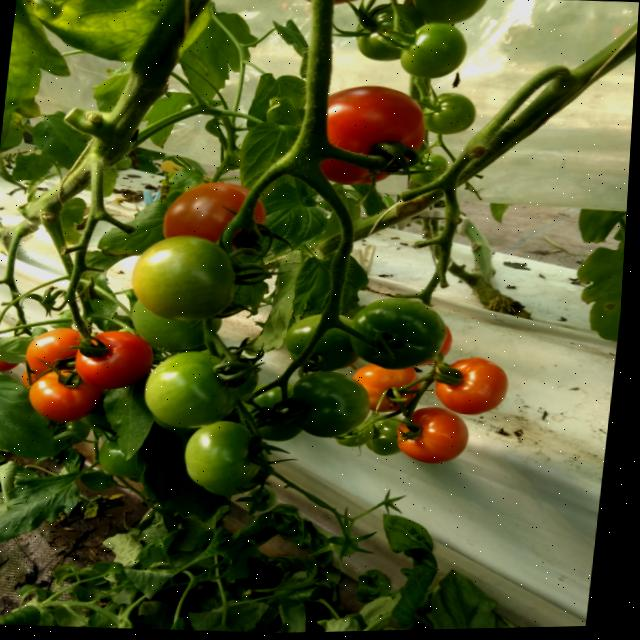ripe0: (127, 235, 238, 321), (141, 349, 242, 431), (181, 421, 274, 498)
ripe2: (71, 330, 155, 392), (26, 371, 100, 422)
